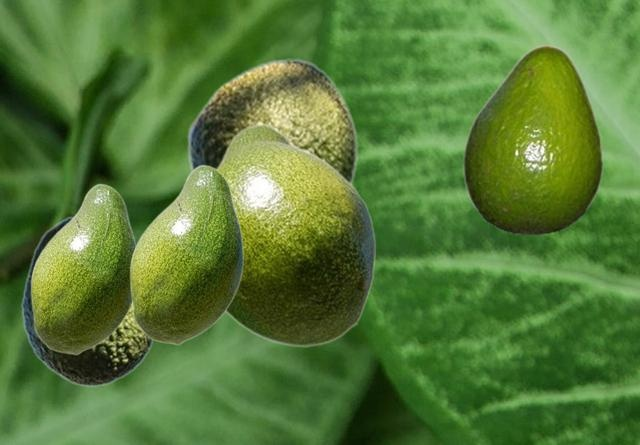avocado: (216, 123, 375, 347), (462, 44, 602, 233), (20, 215, 156, 386), (186, 58, 357, 186), (129, 164, 243, 344), (30, 183, 135, 354)
